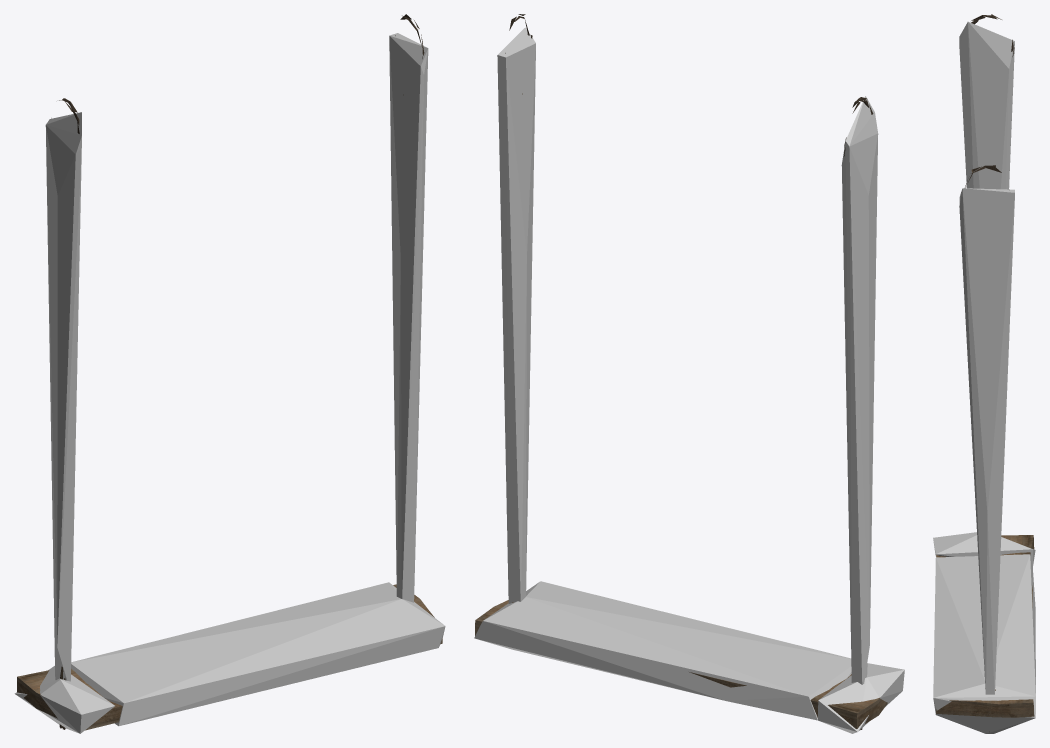
The model's file is SM_Swing.fbx.
3 views of the same model, side by side, from view 1: azimuth 30°, elevation 25°; view 2: azimuth 150°, elevation 25°; view 3: azimuth 270°, elevation 25° (orthographic). The views are drawn at different scales.
Visible parts, largest first — view 1: SM_Swing_ConvexHulls, SM_Swing; view 2: SM_Swing_ConvexHulls, SM_Swing; view 3: SM_Swing_ConvexHulls, SM_Swing.
Part boxes in pixels (bbox=[...]): SM_Swing_ConvexHulls: bbox=[14, 33, 445, 733]; SM_Swing: bbox=[17, 14, 442, 730]; SM_Swing_ConvexHulls: bbox=[474, 27, 904, 733]; SM_Swing: bbox=[475, 14, 887, 729]; SM_Swing_ConvexHulls: bbox=[933, 21, 1035, 733]; SM_Swing: bbox=[936, 14, 1034, 731].
Bounding box in the file's own units: 264 × 67.95 × 414.
2 materials, 1 textured.
